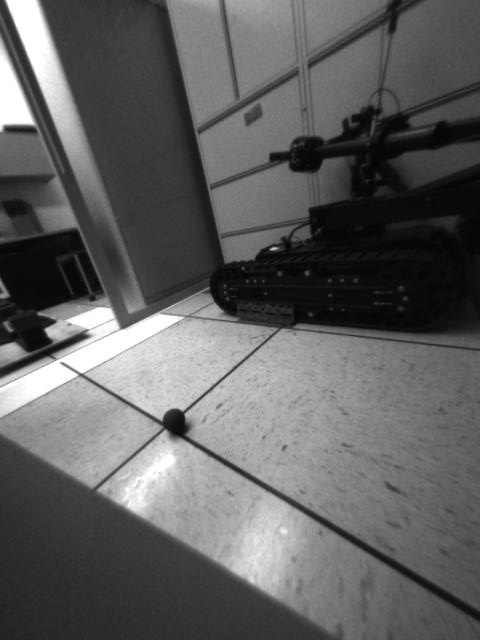dogtoy: (154, 403, 198, 442)
